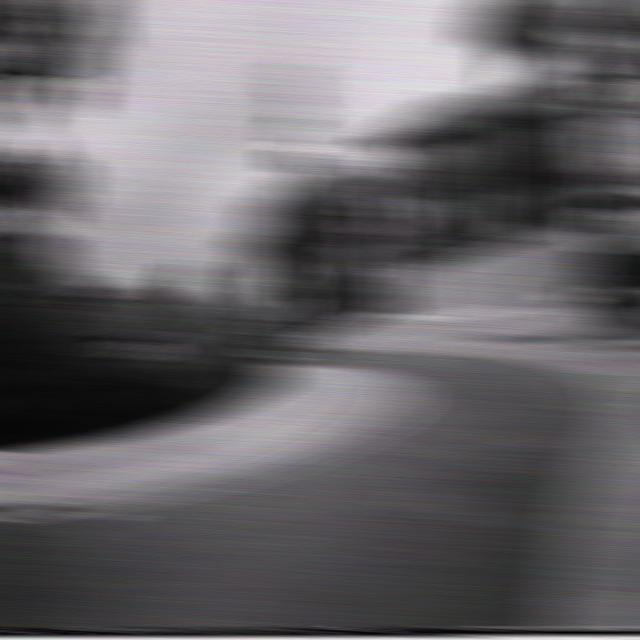pedestrianCrossing: (264, 258, 307, 297)
